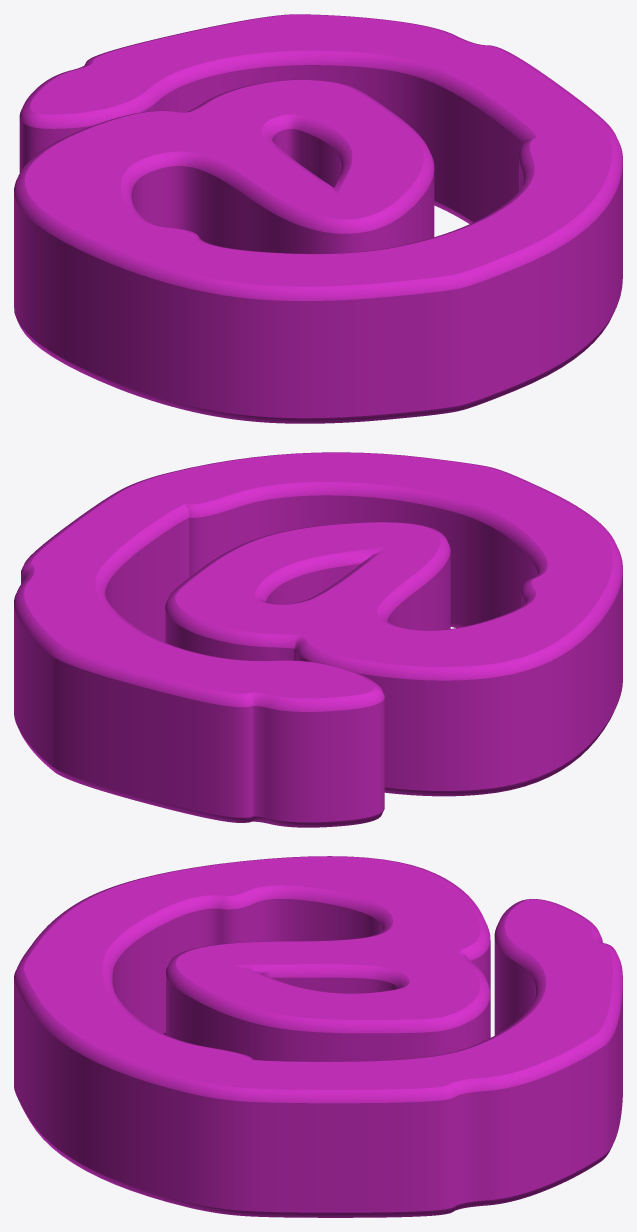
Rendered from Bubble_AtSign.fbx.
3 views of the same model, one above another, from view 1: azimuth 30°, elevation 25°; view 2: azimuth 150°, elevation 25°; view 3: azimuth 270°, elevation 25° (orthographic). The views are drawn at different scales.
Parts seen in each view (by area): view 1: BubbleAtSign; view 2: BubbleAtSign; view 3: BubbleAtSign.
Boxes of the visible parts, x1,y1,x2,y2 form: BubbleAtSign: (14, 14, 622, 423); BubbleAtSign: (14, 452, 622, 827); BubbleAtSign: (14, 856, 622, 1217).
Size of the model in its own units: 0.569 by 0.14 by 0.6053.
